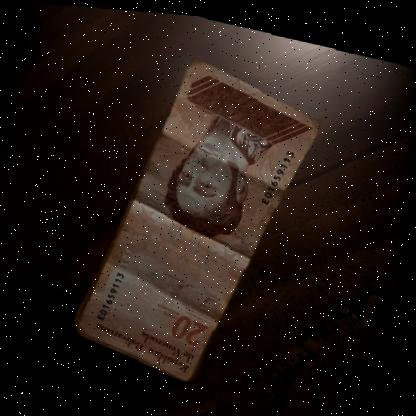twenty-front-vef: (70, 37, 331, 399)
